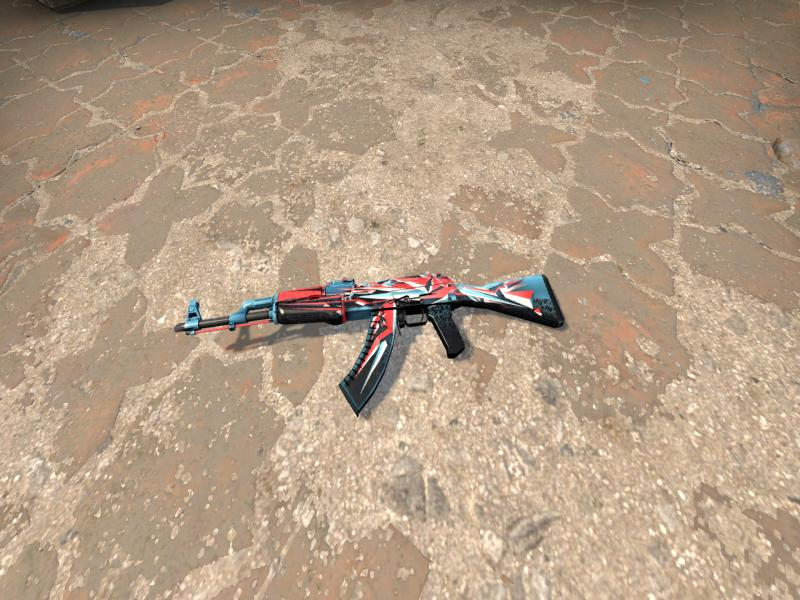AK47: (174, 273, 564, 414)
